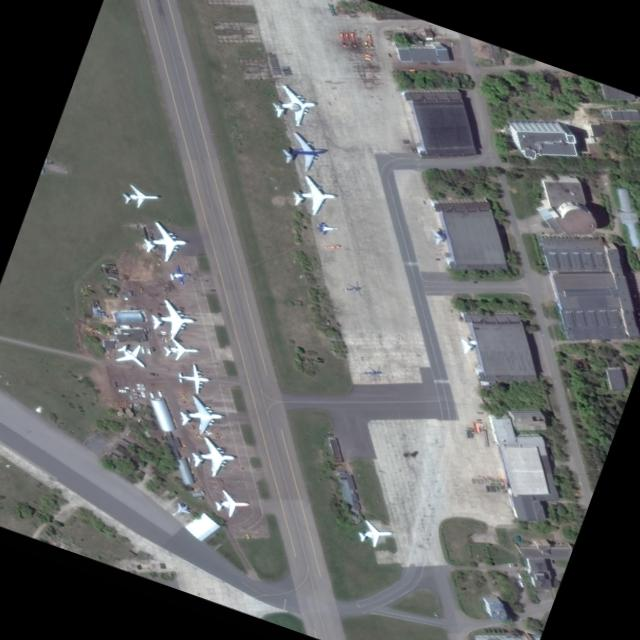large-vehicle: (147, 391, 153, 398), (155, 390, 161, 396), (145, 347, 150, 353), (140, 347, 143, 353)
plane: (266, 85, 320, 126), (278, 131, 330, 172), (142, 220, 188, 263), (289, 174, 337, 215), (176, 394, 225, 433), (189, 436, 234, 478), (149, 298, 195, 339), (109, 339, 154, 374), (355, 519, 395, 548), (177, 361, 208, 395), (212, 490, 251, 517), (120, 183, 159, 209), (163, 337, 199, 362), (165, 500, 192, 519), (168, 265, 189, 285), (316, 221, 338, 234), (459, 338, 473, 353), (431, 230, 444, 244), (323, 244, 340, 250)
